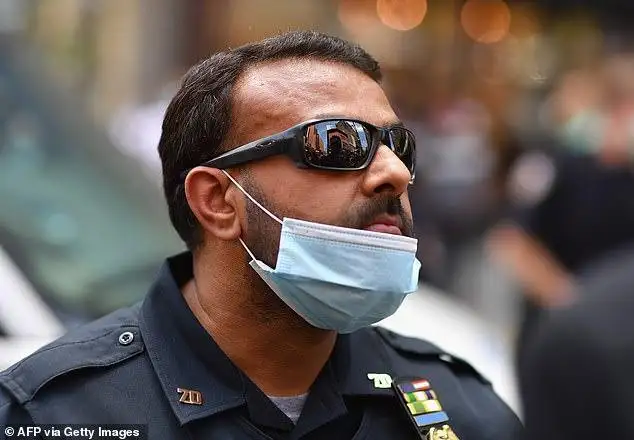nose_out: (193, 55, 423, 333)
